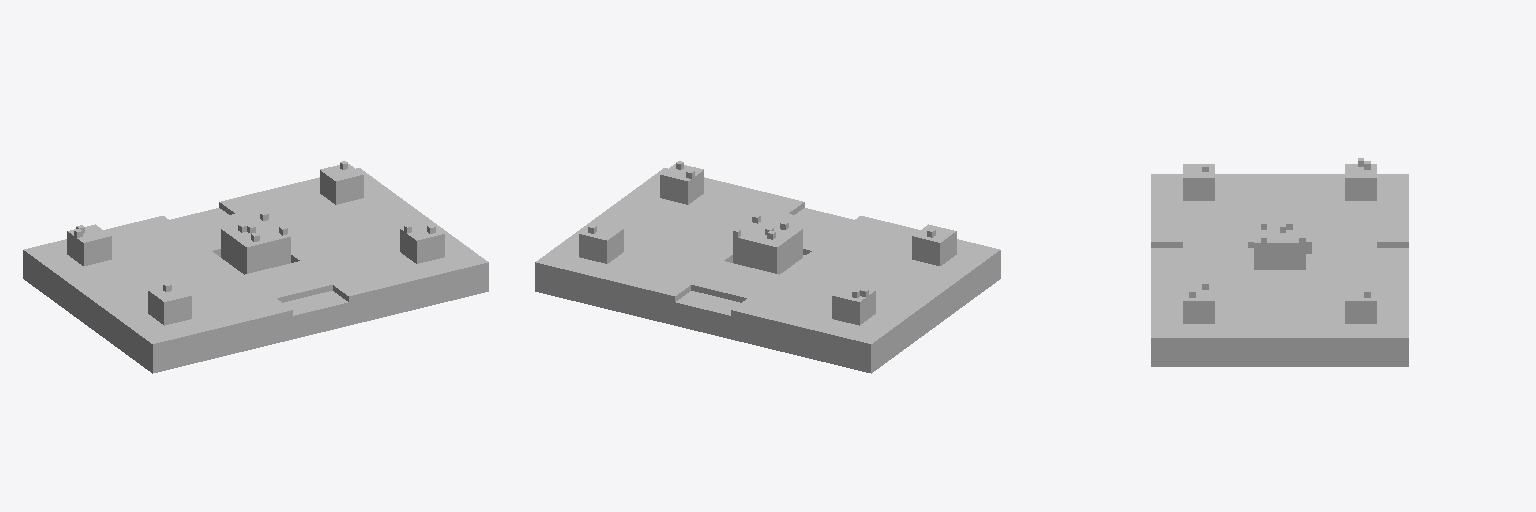
Rendered from Main.obj.
The picture shows the model from 3 angles: view 1: azimuth 30°, elevation 25°; view 2: azimuth 150°, elevation 25°; view 3: azimuth 270°, elevation 25°; orthographic projection.
Visible parts, largest first — view 1: Main; view 2: Main; view 3: Main.
Boxes of the visible parts, <box> form: Main: <box>23,161,488,373</box>; Main: <box>535,161,1000,373</box>; Main: <box>1151,158,1408,366</box>.
Size of the model in its own units: 60 by 10 by 40.